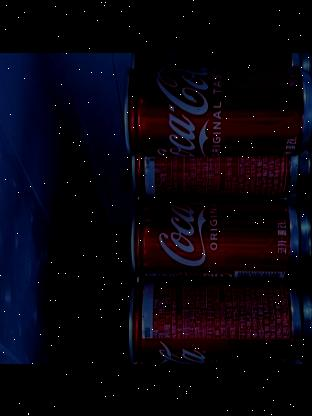Can: (125, 65, 312, 154), (130, 282, 302, 364), (134, 198, 300, 280), (131, 150, 303, 197)
